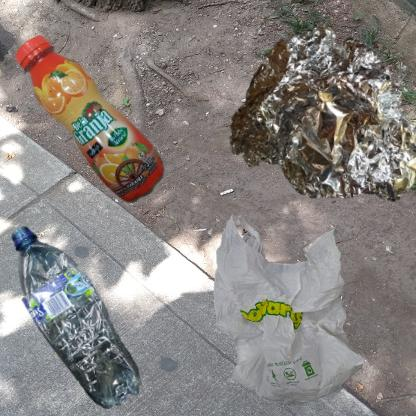aluminio: (213, 10, 416, 229)
bolsa: (213, 213, 365, 406)
botella: (10, 10, 216, 287), (10, 213, 152, 416)
